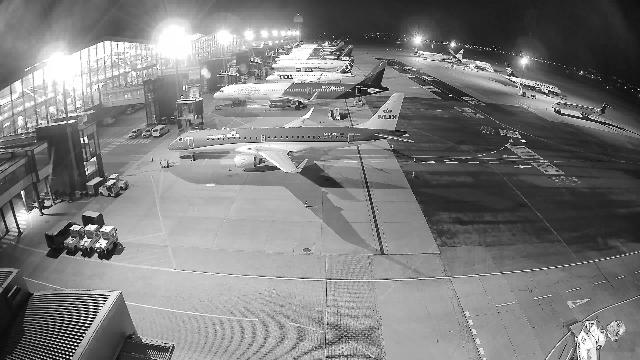Aircraft: (167, 93, 414, 173), (213, 62, 389, 108), (498, 61, 561, 95), (272, 45, 353, 71), (266, 59, 355, 82), (551, 101, 615, 121), (449, 50, 492, 69), (289, 41, 345, 55), (423, 49, 467, 60), (274, 54, 340, 61)
Airport_Tractor: (95, 225, 119, 255), (80, 224, 101, 253), (64, 225, 85, 252), (99, 180, 120, 197), (107, 174, 129, 190)
Baggage_Trolley: (82, 210, 105, 229), (85, 177, 104, 196), (59, 190, 74, 202)
Conveyor_Belt: (328, 108, 340, 120)
